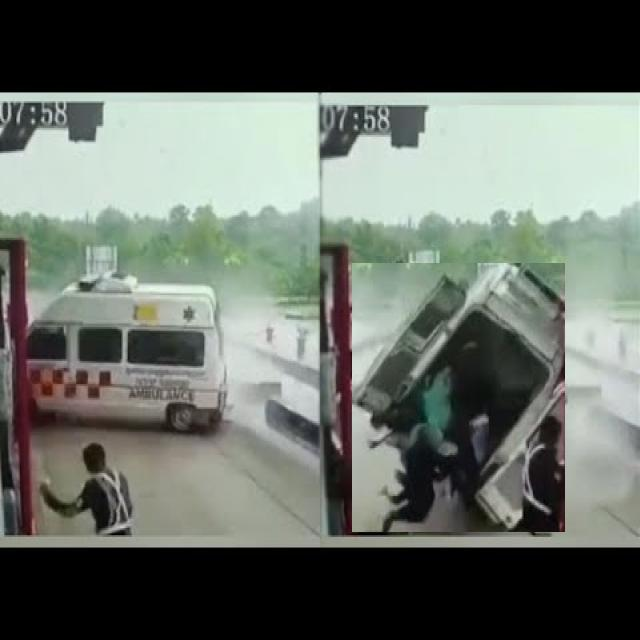accident: (352, 264, 565, 532)
emergency: (29, 273, 226, 431)
